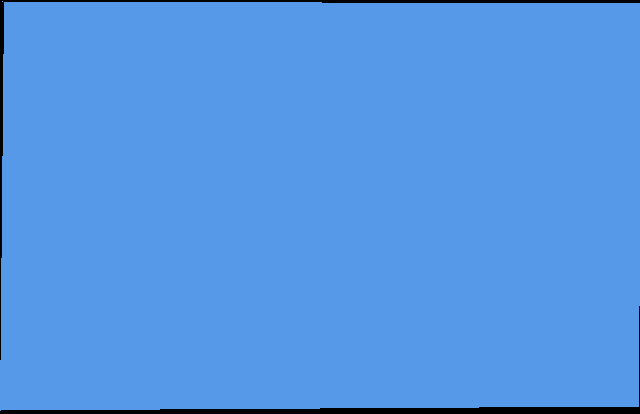Airplane: (0, 1, 640, 410)
